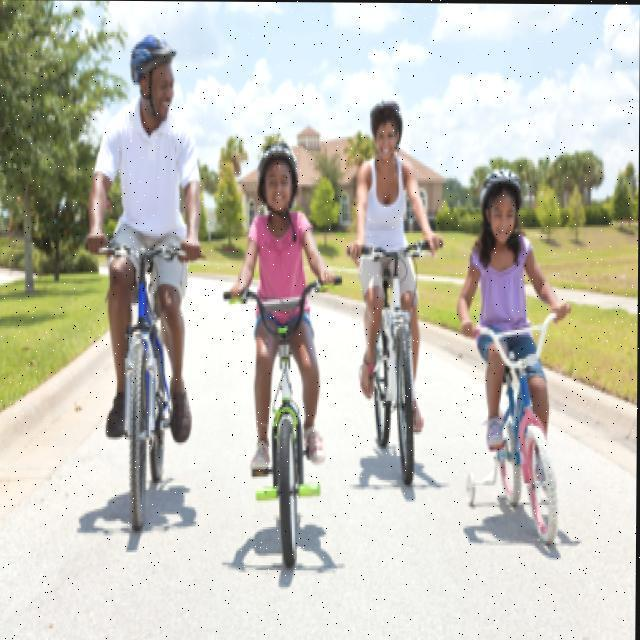Helmet: (469, 158, 531, 252), (356, 81, 408, 182), (127, 27, 179, 121), (253, 138, 300, 220)
